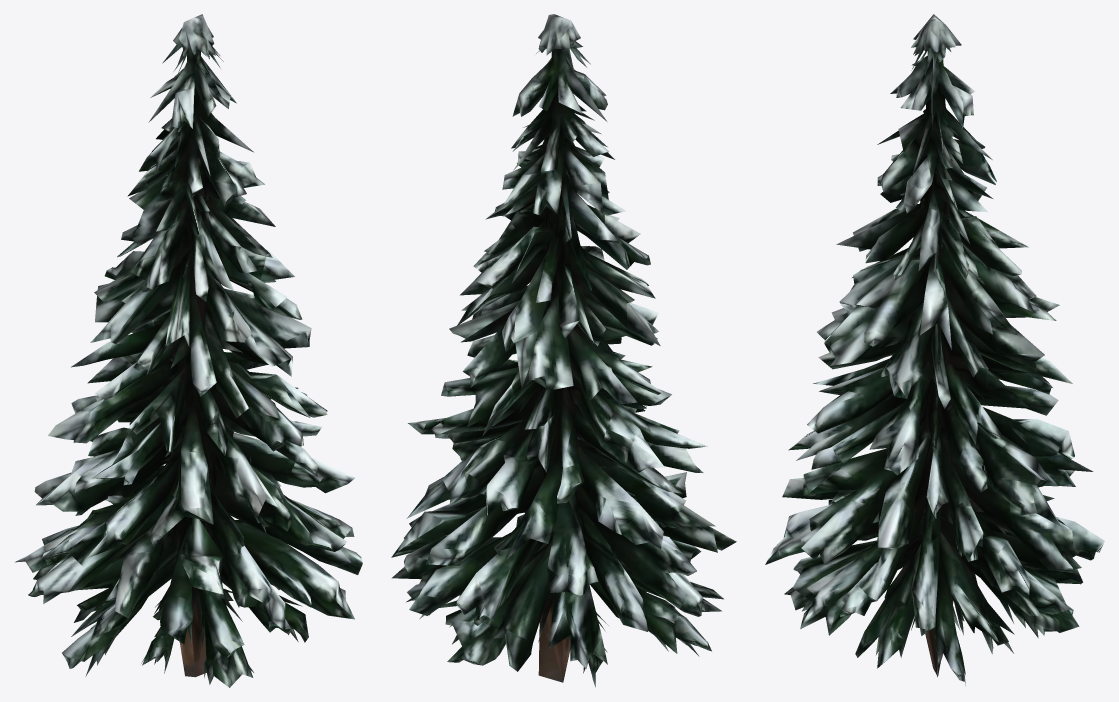
Rendered from dio_pine.glb.
3 views of the same model, side by side, from view 1: azimuth 30°, elevation 25°; view 2: azimuth 150°, elevation 25°; view 3: azimuth 270°, elevation 25° (orthographic).
Visible parts, largest first — view 1: tripo_node_56966759-f922-45bf-9328-1cc78b5c0e0e; view 2: tripo_node_56966759-f922-45bf-9328-1cc78b5c0e0e; view 3: tripo_node_56966759-f922-45bf-9328-1cc78b5c0e0e.
Part boxes in pixels (<box>): tripo_node_56966759-f922-45bf-9328-1cc78b5c0e0e: <box>15,14,362,687</box>; tripo_node_56966759-f922-45bf-9328-1cc78b5c0e0e: <box>391,14,736,687</box>; tripo_node_56966759-f922-45bf-9328-1cc78b5c0e0e: <box>765,14,1104,685</box>.
Bounding box in the file's own units: 0.4613 × 0.9442 × 0.447.
1 material, 1 textured.
